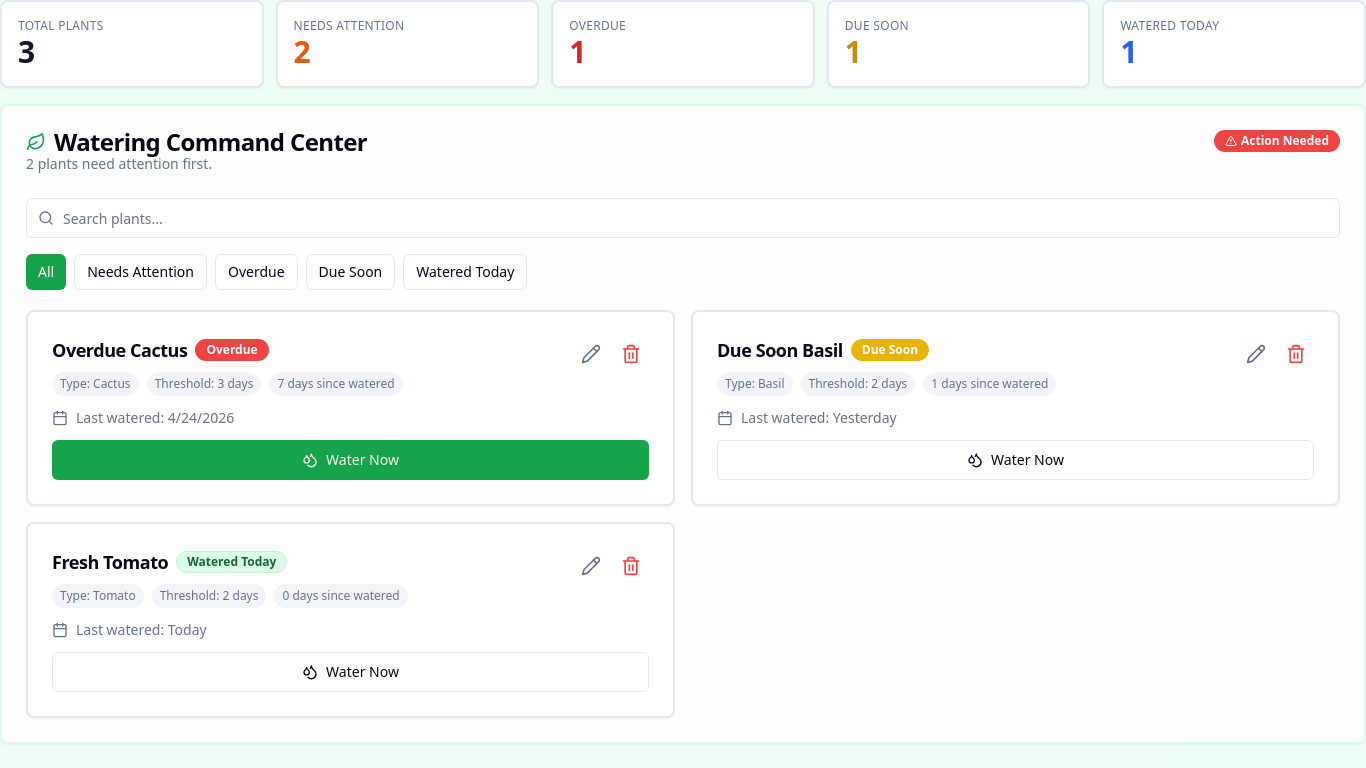
PlantList command center › filters plants by attention status and search text
Expected: the heading "Overdue Cactus" is shown, [52,336,187,364]
Click the button "Needs Attention" at (141, 272), box [74,254,207,290]
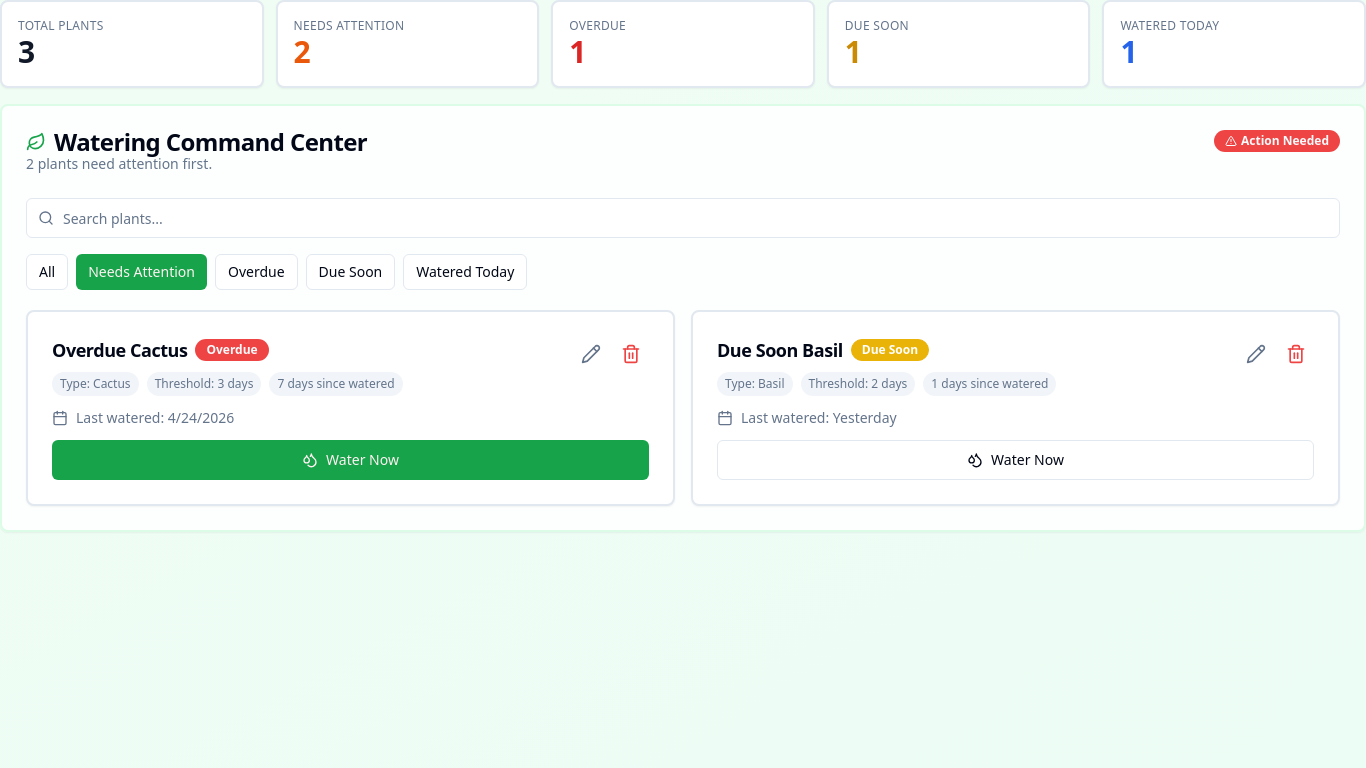
Expected: the heading "Overdue Cactus" is shown, [52,336,187,364]
Expected: the heading "Fresh Tomato" is gone
Type "basil" into the field with placeholder "Search plants..." at (683, 218), box [26,198,1340,238]
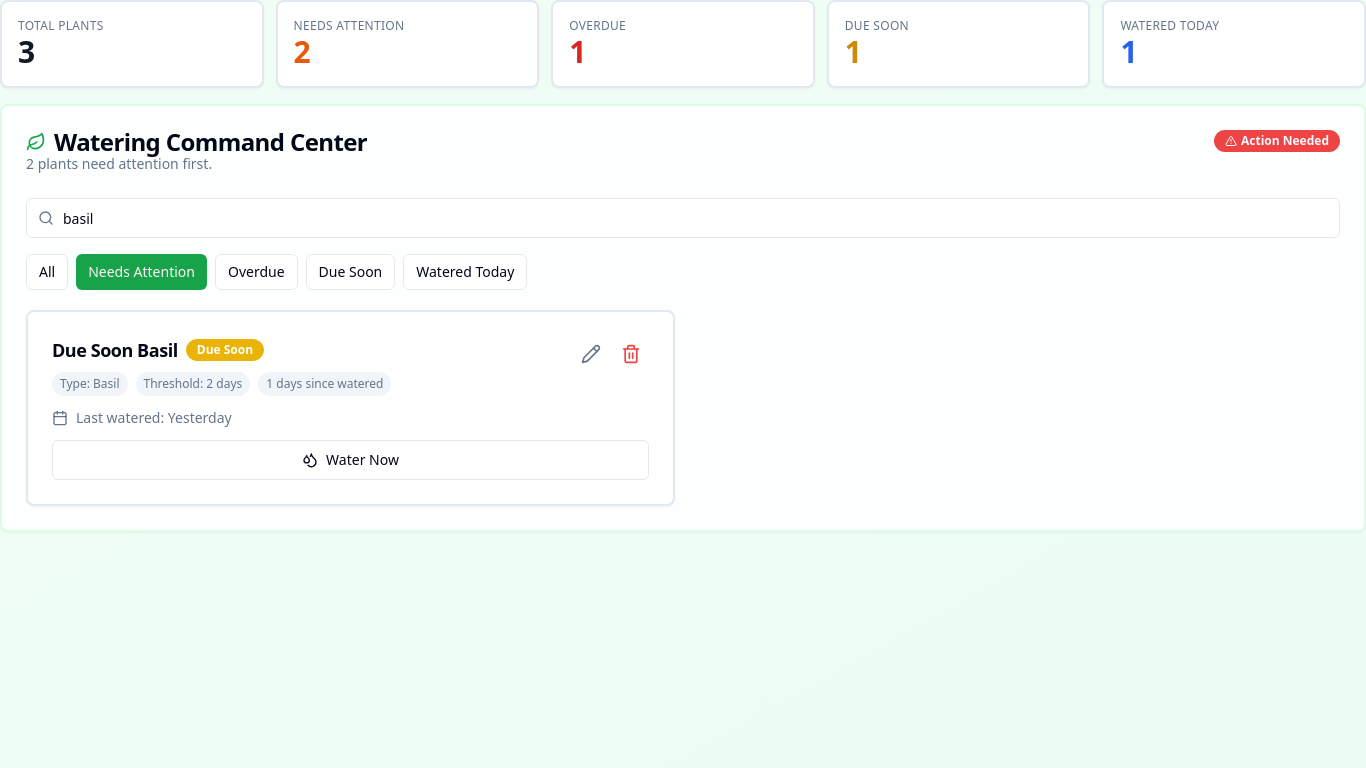
Expected: the heading "Due Soon Basil" is shown, [52,336,178,364]
Expected: the heading "Overdue Cactus" is gone
